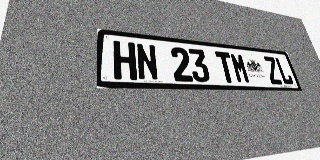2: (170, 46, 193, 82)
3: (188, 48, 211, 82)
H: (113, 41, 137, 80)
L: (274, 57, 294, 85)
M: (229, 53, 251, 83)
N: (135, 43, 159, 81)
T: (215, 51, 237, 83)
Z: (262, 56, 283, 84)
